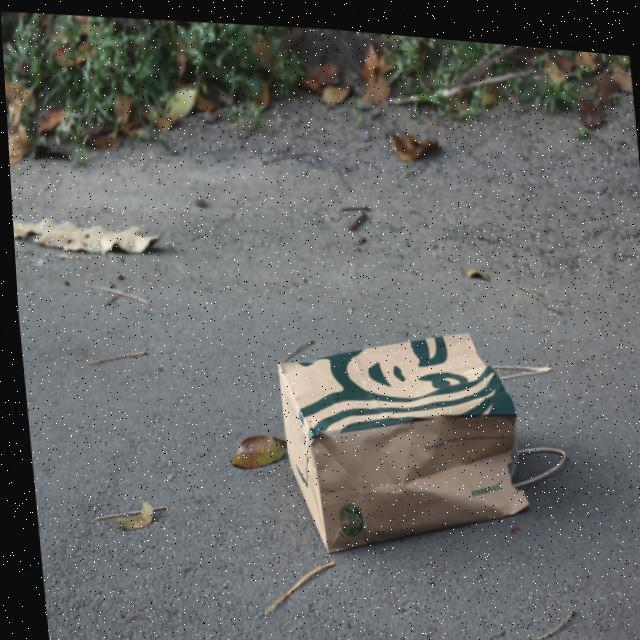Paper_Bag: (269, 308, 570, 566)
